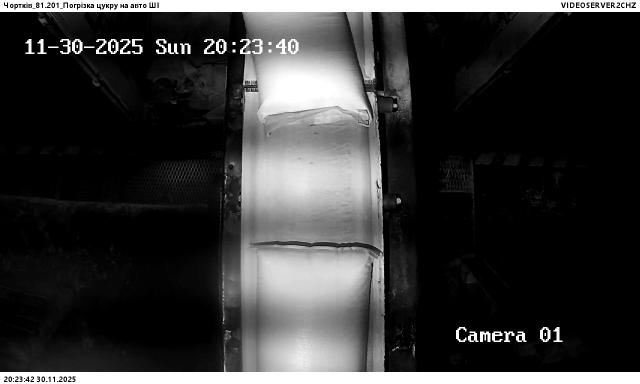bag: (242, 12, 374, 135), (255, 245, 379, 372)
